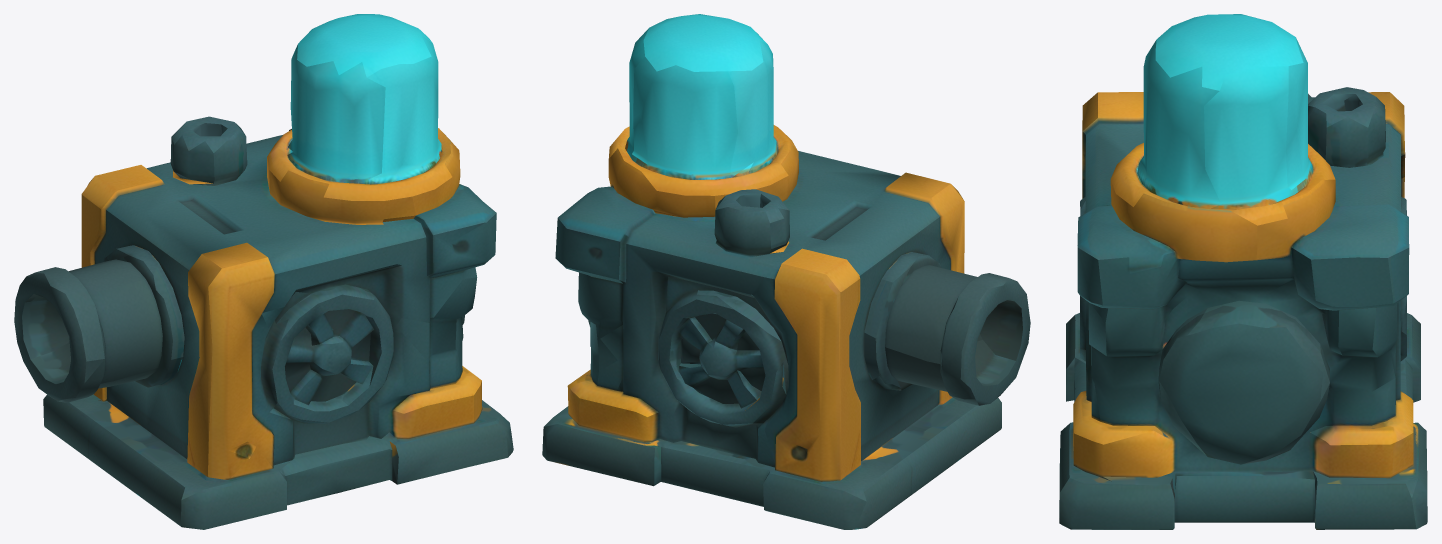
Rendered from Environment 4.1.fbx.
3 renders of one model, left to right at view 1: azimuth 30°, elevation 25°; view 2: azimuth 150°, elevation 25°; view 3: azimuth 270°, elevation 25°, orthographic. The views are drawn at different scales.
Parts seen in each view (by area): view 1: tmp718wso3w.ply; view 2: tmp718wso3w.ply; view 3: tmp718wso3w.ply.
Part boxes in pixels (left/top/right/bottom): tmp718wso3w.ply: left=14, top=14, right=513, bottom=529; tmp718wso3w.ply: left=542, top=14, right=1030, bottom=529; tmp718wso3w.ply: left=1059, top=14, right=1427, bottom=529.
Size of the model in its own units: 199 by 189 by 139.
Materials: 1 (1 with a texture image).
